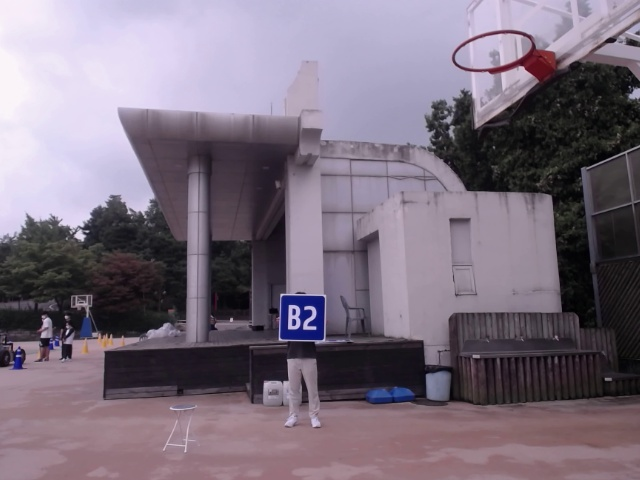delivery_b2: (280, 292, 325, 341)
